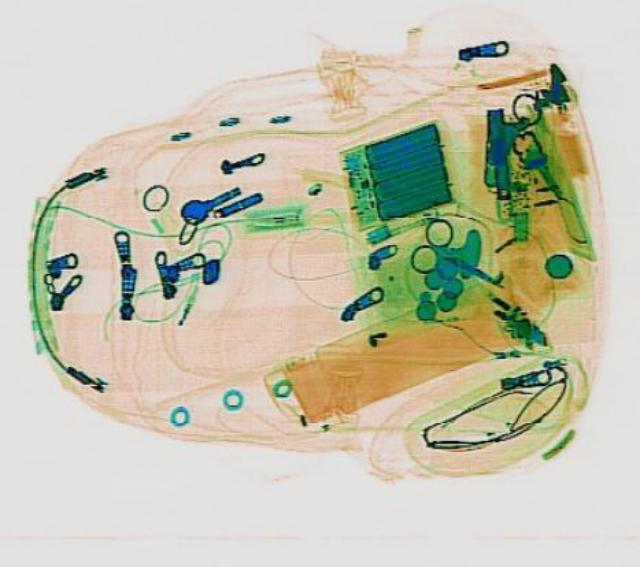Scissors: (396, 213, 524, 308)
